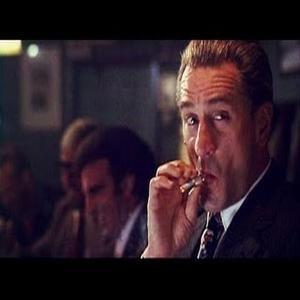cigarette: (181, 177, 204, 190)
